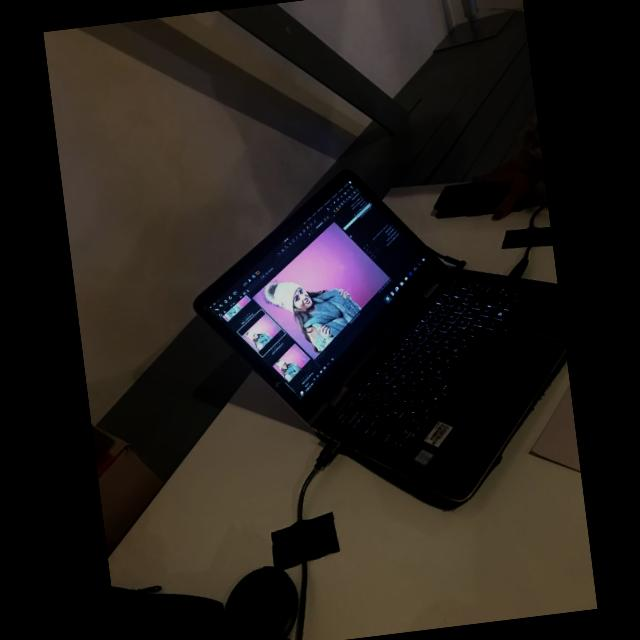laptop: (193, 169, 566, 507)
